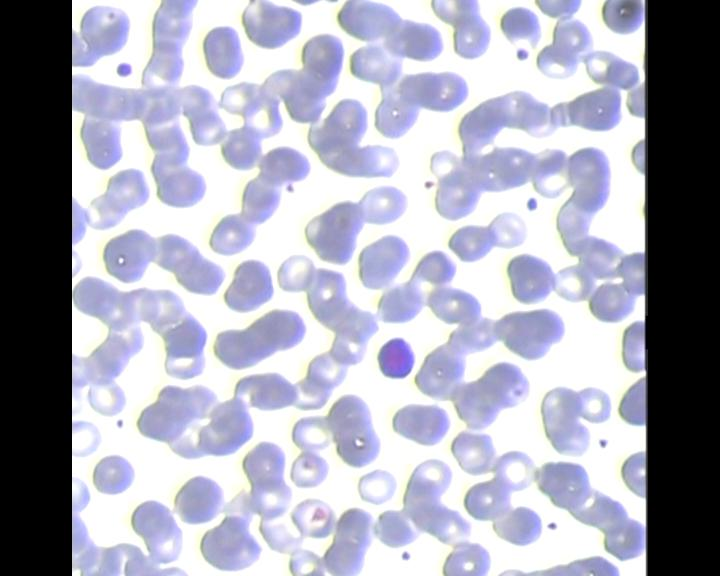lymp: (373, 334, 419, 382)
